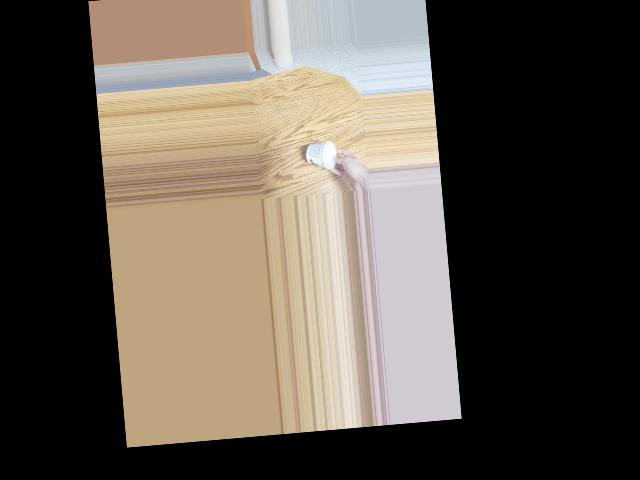cotage: (301, 134, 334, 167)
